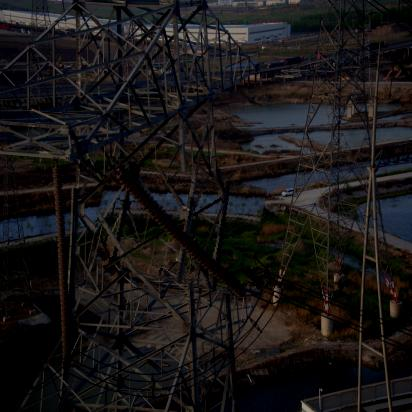insulator: (94, 164, 264, 291)
